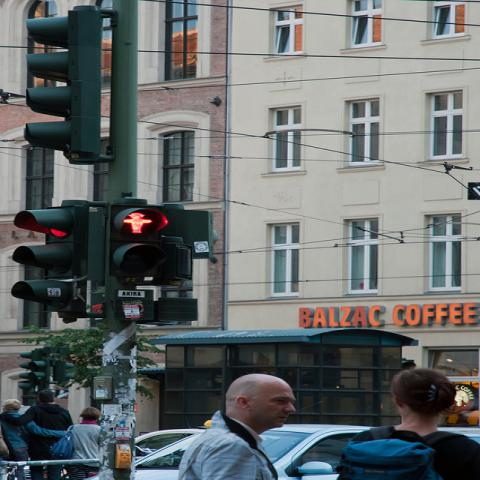car: (132, 425, 478, 479), (132, 429, 202, 461)
